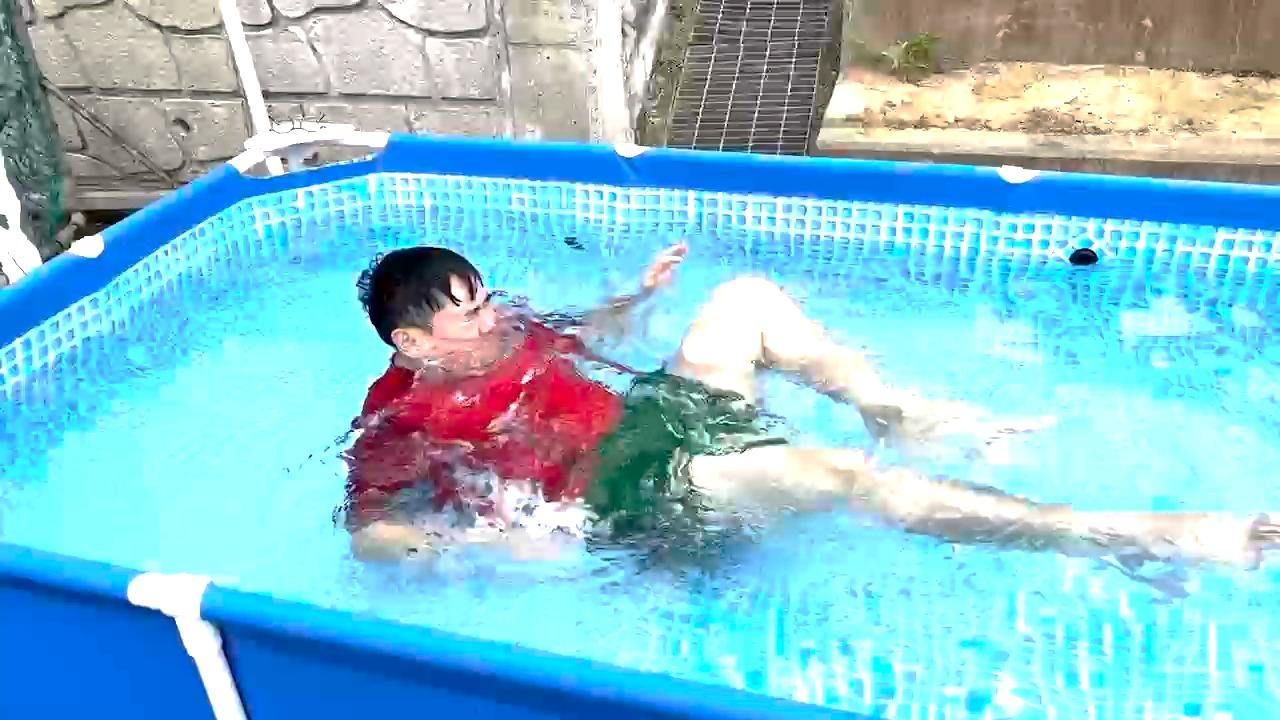Drowning: (283, 200, 1259, 606)
